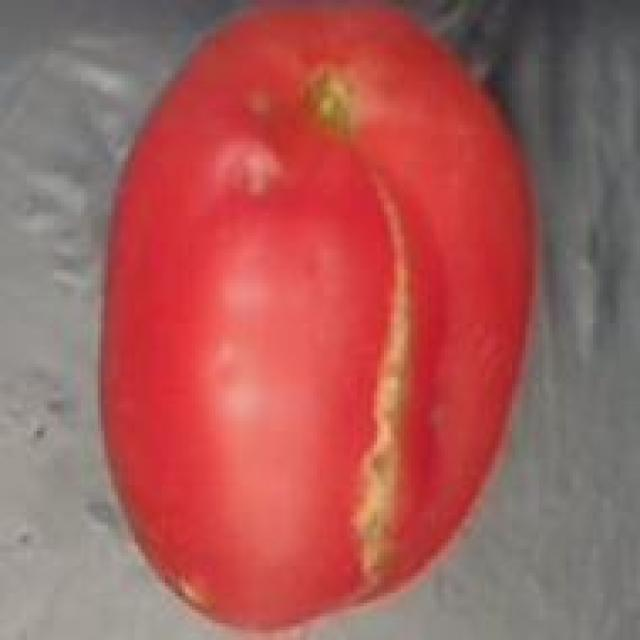overripe tomato: (88, 0, 546, 640)
